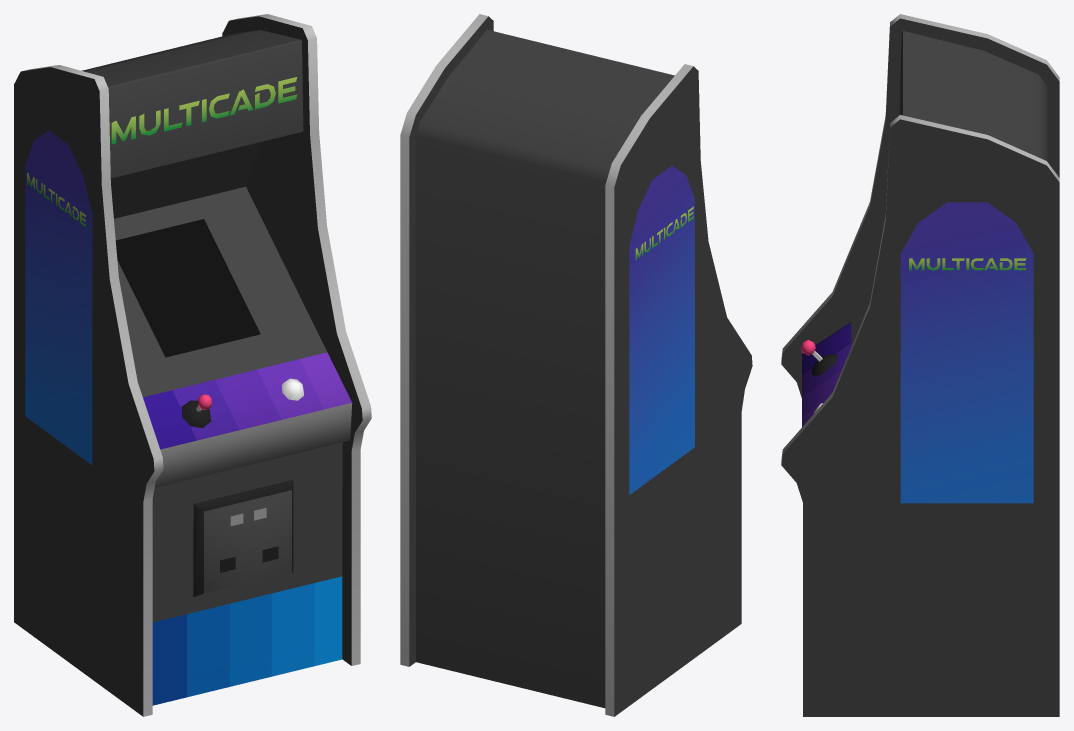
The model's file is entertainment_019.glb.
3 views of the same model, side by side, from view 1: azimuth 30°, elevation 25°; view 2: azimuth 150°, elevation 25°; view 3: azimuth 270°, elevation 25° (orthographic).
Visible parts, largest first — view 1: entertainment_019; view 2: entertainment_019; view 3: entertainment_019.
Part boxes in pixels (x1=…): entertainment_019: x1=14, y1=14, x2=371, y2=716; entertainment_019: x1=400, y1=14, x2=752, y2=716; entertainment_019: x1=781, y1=14, x2=1059, y2=716.
Bounding box in the file's own units: 0.8301 × 2.12 × 0.895.
1 material, 1 textured.
